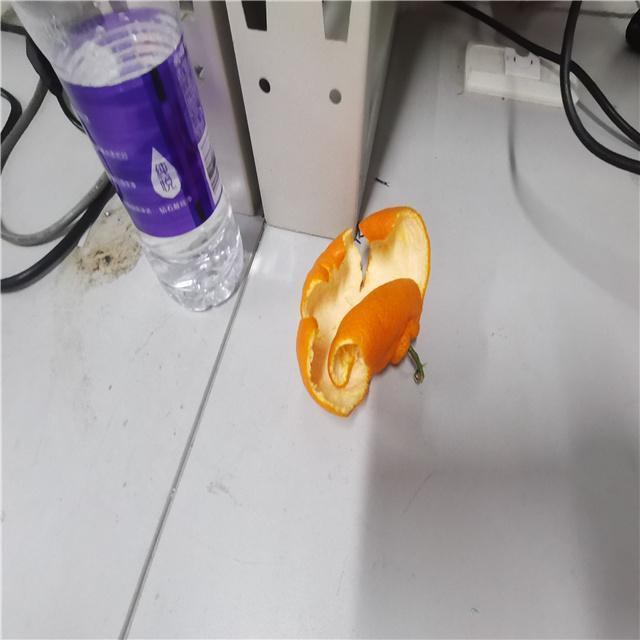orange peel: (287, 203, 455, 422)
